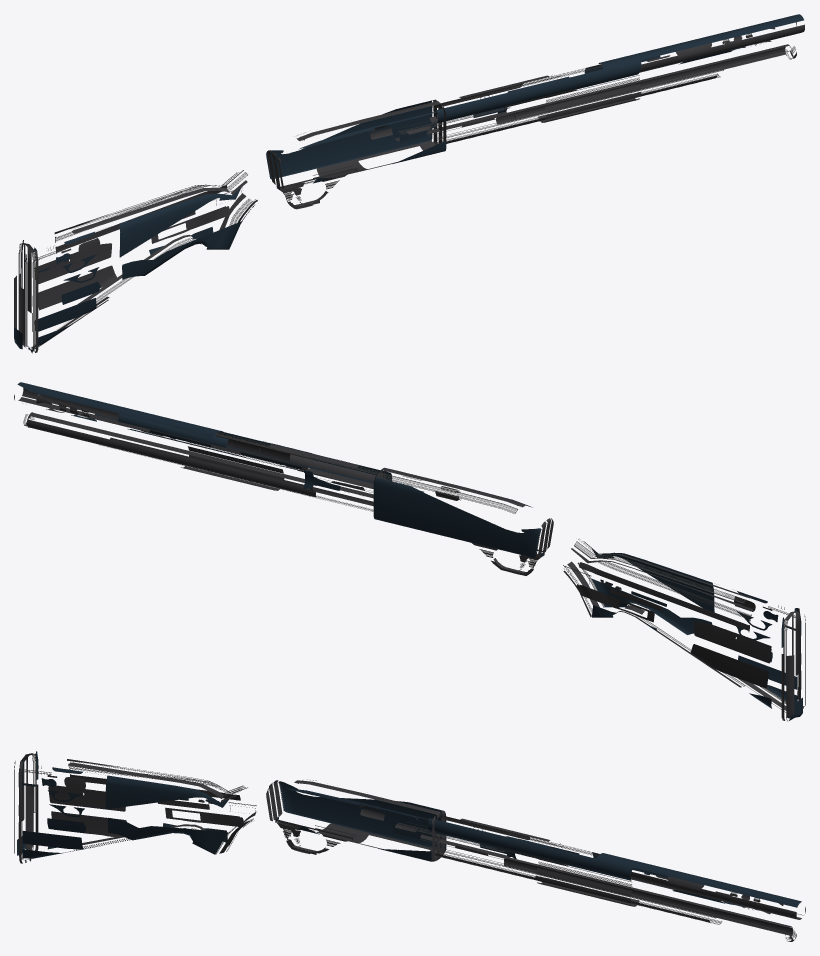
3 views of the same model, one above another, from view 1: azimuth 30°, elevation 25°; view 2: azimuth 150°, elevation 25°; view 3: azimuth 330°, elevation 25° (orthographic).
Visible parts, largest first — view 1: 870_Rifle.005, 870_Rifle.008, 870_Rifle, 870_Rifle.002, 870_Rifle.004, 870_Rifle.006; view 2: 870_Rifle.008, 870_Rifle.005, 870_Rifle, 870_Rifle.004, 870_Rifle.002; view 3: 870_Rifle.005, 870_Rifle.008, 870_Rifle, 870_Rifle.002, 870_Rifle.004, 870_Rifle.006.
Boxes of the visible parts, left/top/right/bottom form: 870_Rifle.005: left=30, top=170, right=257, bottom=348; 870_Rifle.008: left=429, top=14, right=804, bottom=145; 870_Rifle: left=266, top=99, right=510, bottom=188; 870_Rifle.002: left=497, top=75, right=641, bottom=122; 870_Rifle.004: left=14, top=240, right=38, bottom=353; 870_Rifle.006: left=276, top=165, right=356, bottom=209; 870_Rifle.008: left=14, top=382, right=392, bottom=511; 870_Rifle.005: left=563, top=538, right=797, bottom=712; 870_Rifle: left=313, top=467, right=553, bottom=557; 870_Rifle.004: left=781, top=608, right=805, bottom=721; 870_Rifle.002: left=181, top=442, right=313, bottom=491; 870_Rifle.005: left=22, top=759, right=256, bottom=859; 870_Rifle.008: left=427, top=815, right=805, bottom=936; 870_Rifle: left=266, top=779, right=510, bottom=861; 870_Rifle.002: left=495, top=847, right=639, bottom=906; 870_Rifle.004: left=14, top=751, right=38, bottom=863; 870_Rifle.006: left=275, top=816, right=355, bottom=854.
Size of the model in its own units: 6660 by 1217 by 248.
